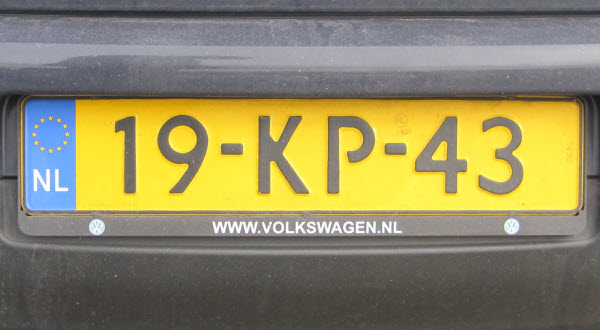license_plate: (21, 93, 583, 218)
